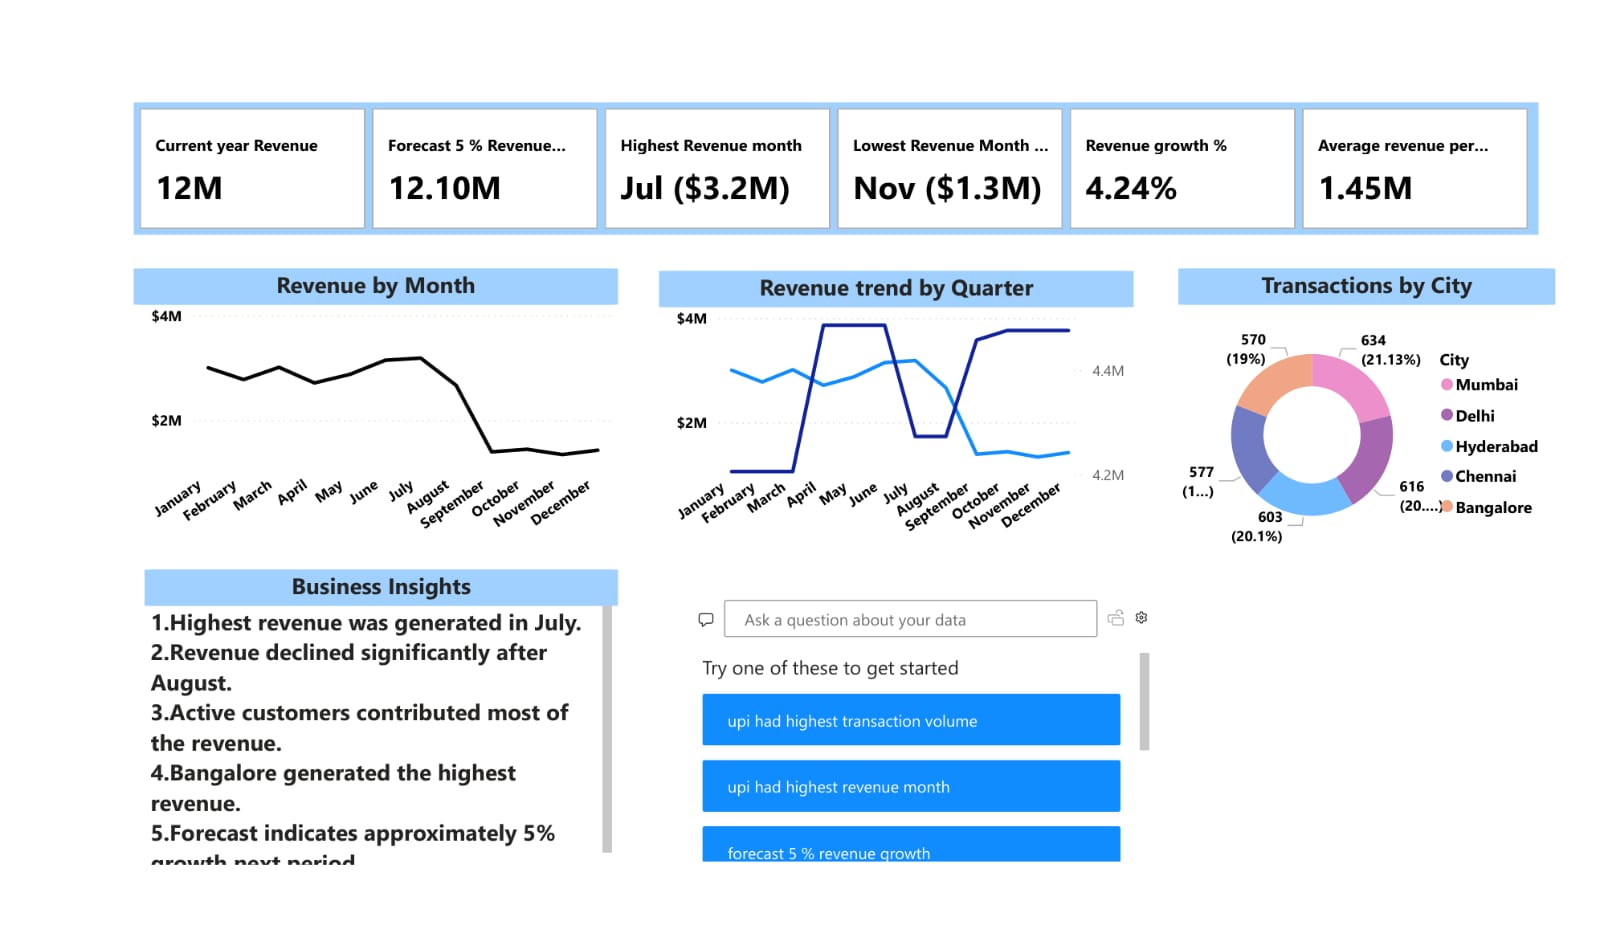

The page's visual inventory and layout, read from the dashboard file:
{"tool":"powerbi","page":{"name":"Forecast & Business Insights","canvas":[1280,720],"ordinal":4},"visuals":[{"type":"cardVisual","fields":{"Data":["Measure.Current year Revenue","Measure.Forecast Revenue Growth 5%","Measure.Highest Revenue month","Measure.Low Revenue month","Measure.Revenue growth %","Measure.Average revenue per month"]},"box":[87.2,60.5,1165.8,110.3],"z":0},{"type":"lineChart","title":"Revenue by Month","fields":{"Y":["Measure.Total Revenue"],"Category":["Calendar table.Month"]},"box":[87.2,199.3,402.2,236.7],"z":1000},{"type":"lineChart","title":"Revenue trend by Quarter ","fields":{"Category":["Calendar table.Month"],"Y":["Measure.Total Revenue"],"Y2":["Measure.Revenue last Quarter"]},"box":[523.3,201.1,393.3,236.7],"z":2000},{"type":"textbox","title":"Business Insights","box":[96.1,448.5,393.3,250.9],"z":3000},{"type":"qnaVisual","box":[546,449,393,251],"z":4000},{"type":"donutChart","title":" Transactions by City","fields":{"Category":["Customers.City"],"Y":["Measure.Total Transactions"]},"box":[954,199.3,313.2,250.9],"z":4002}]}

Visuals, with their boxes in screenshot pixels (x1, y1, x2, y2), scaled from the page's 1280x720 canvas onto the 1600x925 screenshot:
cardVisual - Measure.Current year Revenue x Measure.Forecast Revenue Growth 5%: [x1=109, y1=78, x2=1566, y2=219]
"Revenue by Month" lineChart: [x1=109, y1=256, x2=612, y2=560]
"Revenue trend by Quarter " lineChart: [x1=654, y1=258, x2=1146, y2=562]
"Business Insights" textbox: [x1=120, y1=576, x2=612, y2=899]
qnaVisual: [x1=682, y1=577, x2=1174, y2=899]
" Transactions by City" donutChart: [x1=1192, y1=256, x2=1584, y2=578]
